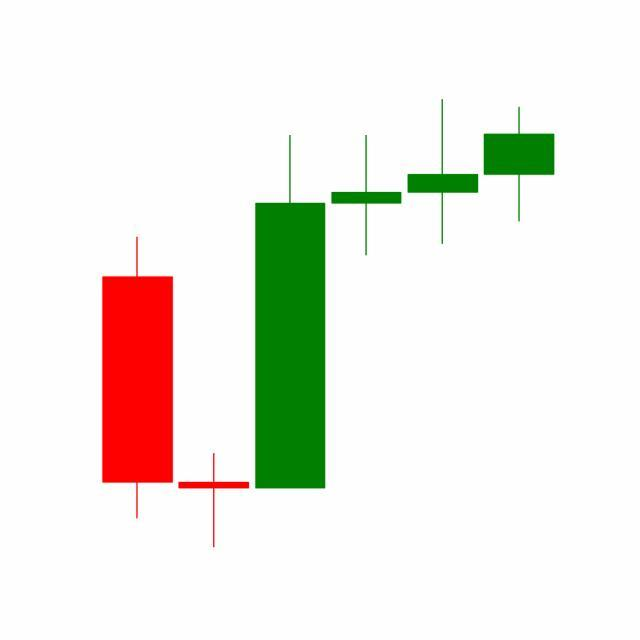Spinning Top: (404, 98, 482, 247)
